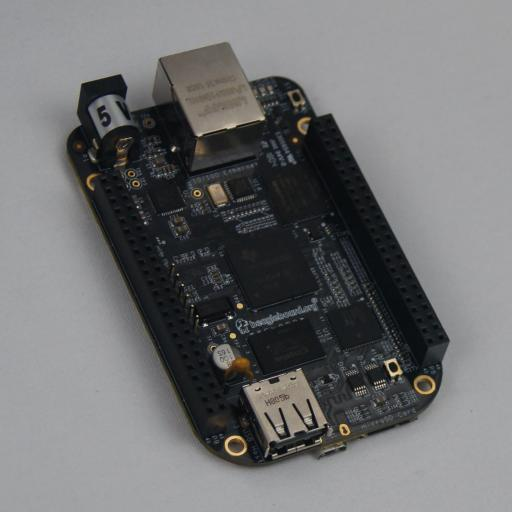Beaglebone Black: (66, 46, 450, 468)
